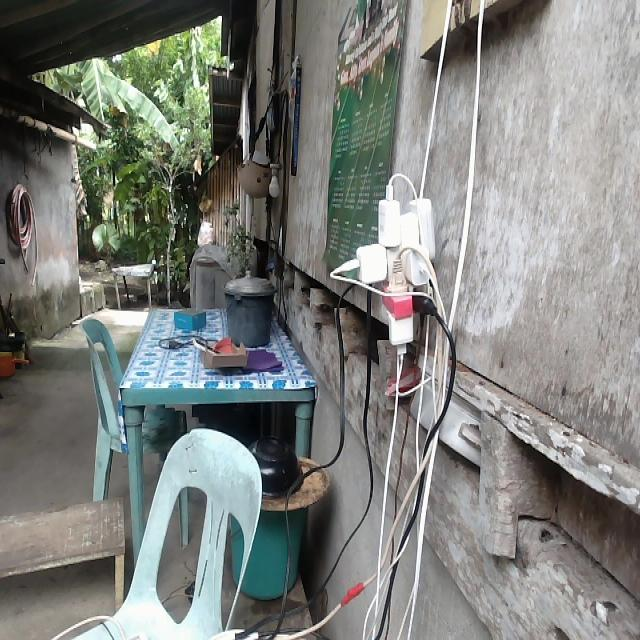-: (349, 195, 434, 345)
